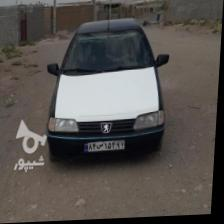plate: (85, 140, 127, 154)
